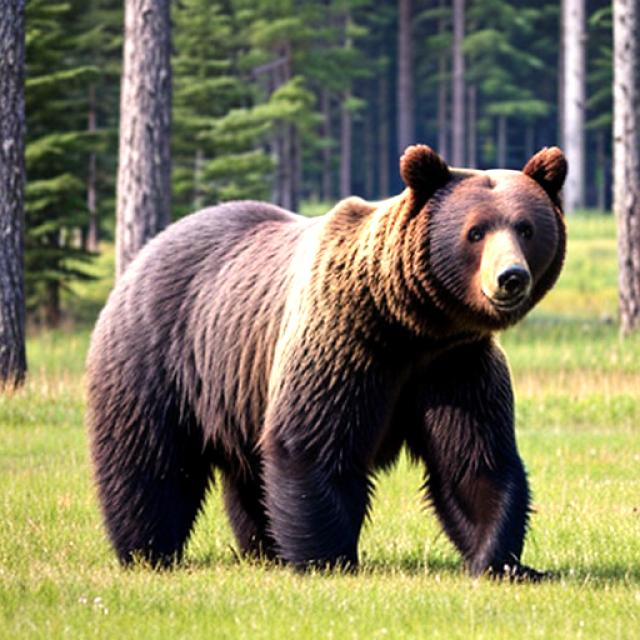bear: (69, 154, 605, 605)
